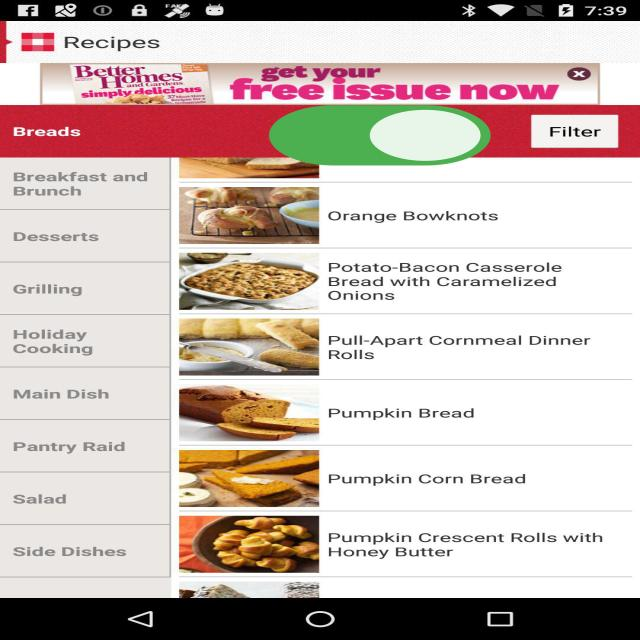social proof: (259, 82, 501, 193)
